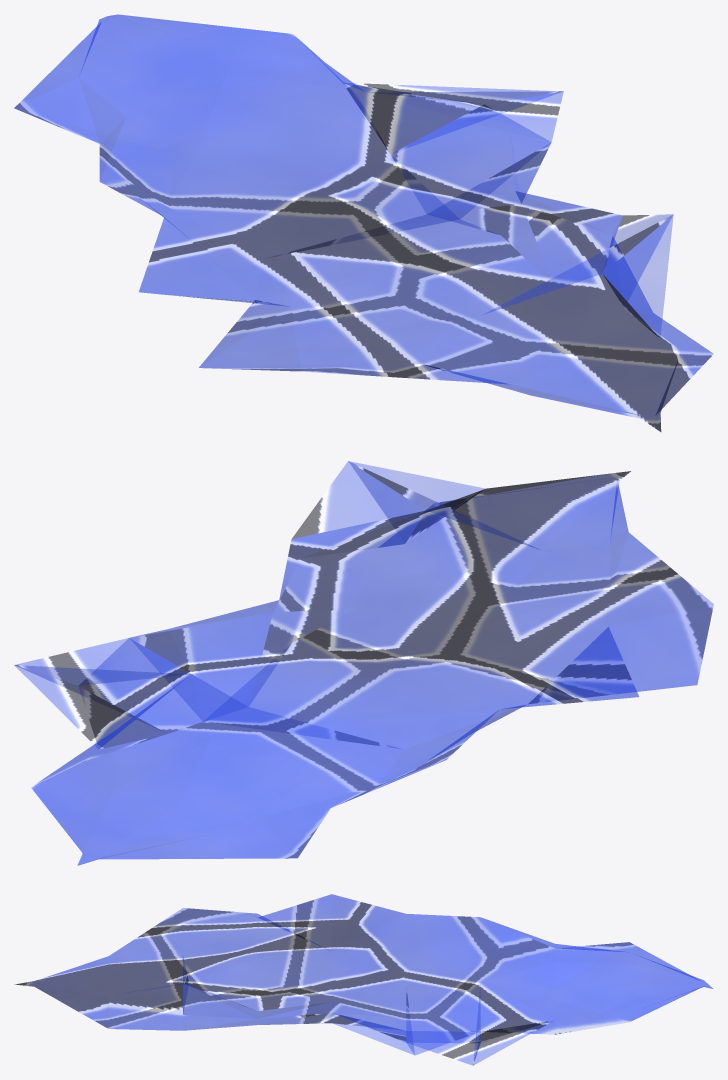
The model's file is heavens_shrapnel_shard_b.glb.
The picture shows the model from 3 angles, top to bottom: view 1: azimuth 30°, elevation 25°; view 2: azimuth 150°, elevation 25°; view 3: azimuth 270°, elevation 25°; orthographic projection. The views are drawn at different scales.
Parts seen in each view (by area): view 1: heavens_shrapnel_shard_b; view 2: heavens_shrapnel_shard_b; view 3: heavens_shrapnel_shard_b.
Part boxes in pixels (x1=…): heavens_shrapnel_shard_b: x1=14, y1=14, x2=713, y2=431; heavens_shrapnel_shard_b: x1=14, y1=461, x2=713, y2=865; heavens_shrapnel_shard_b: x1=14, y1=894, x2=712, y2=1065.
Bounding box in the file's own units: 0.1955 × 0.0454 × 0.3553.
1 material, 1 textured.
